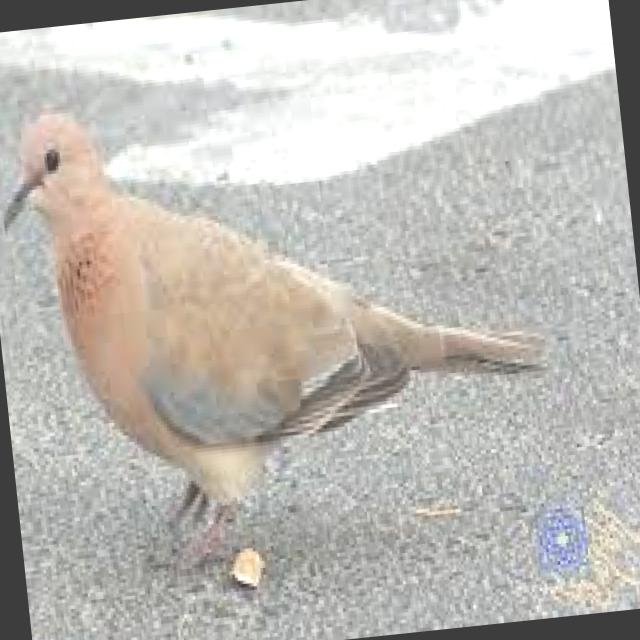bird: (0, 54, 583, 587)
